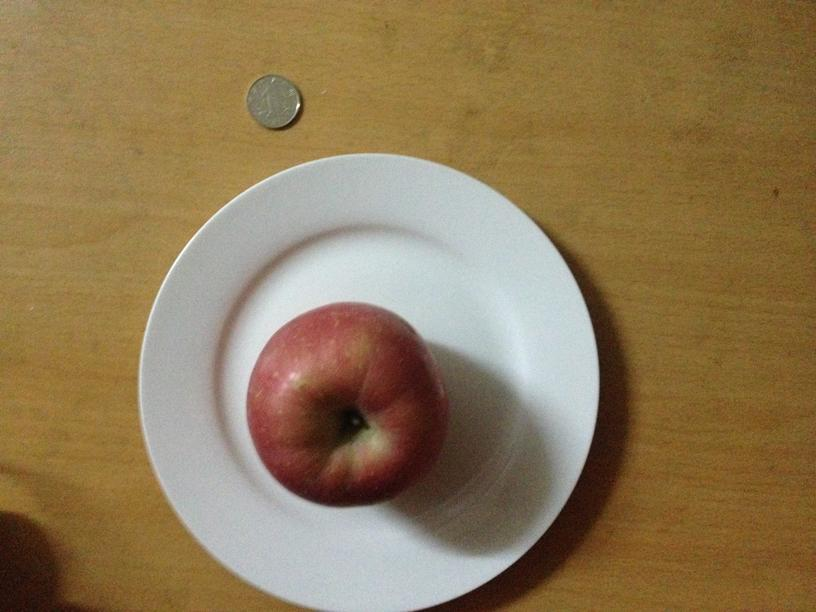apple: (246, 302, 447, 506)
coin: (244, 72, 303, 129)
